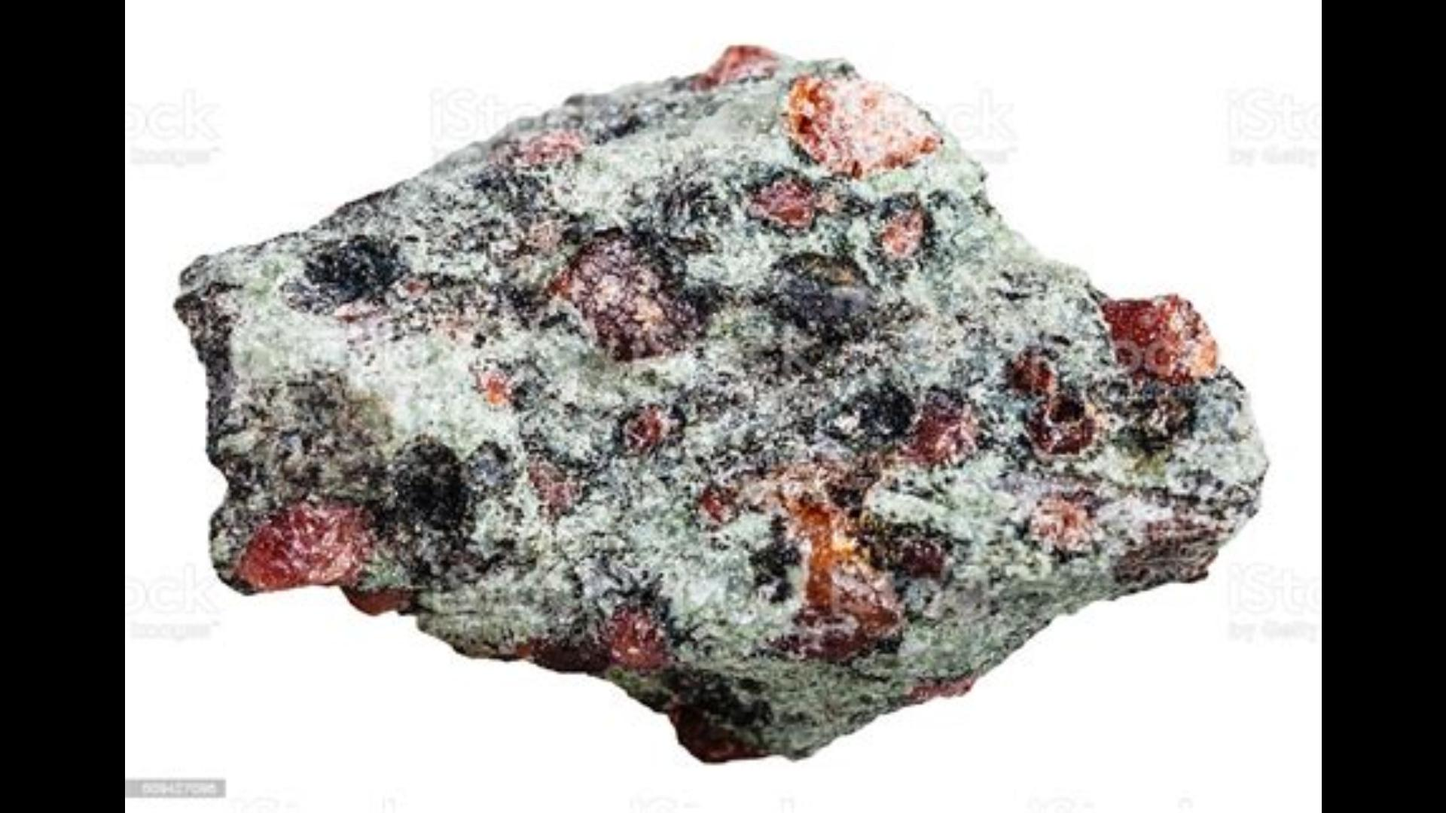rock: (175, 48, 1263, 757)
